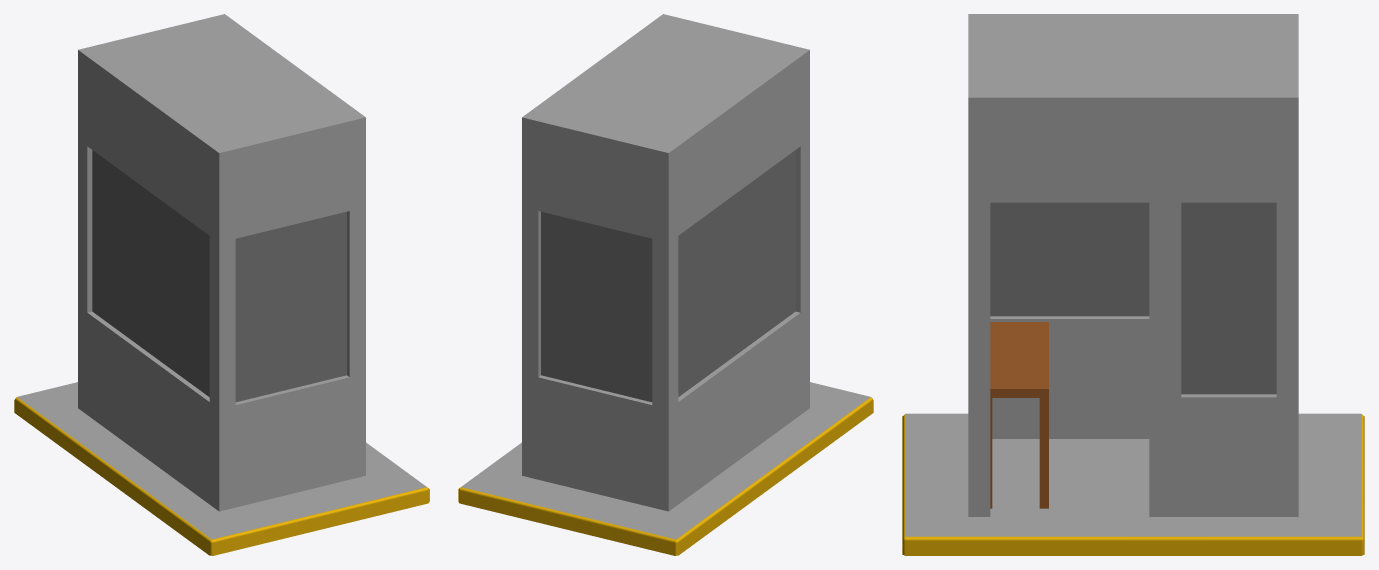
File: Caseta.fbx
The picture shows the model from 3 angles, left to right: view 1: azimuth 30°, elevation 25°; view 2: azimuth 150°, elevation 25°; view 3: azimuth 270°, elevation 25°; orthographic projection. The views are drawn at different scales.
Parts seen in each view (by area): view 1: Caseta, Ventanas, Cimiento; view 2: Caseta, Ventanas, Cimiento; view 3: Caseta, Cimiento, Ventanas, Mesita.
Boxes of the visible parts, x1,y1,x2,y2 form: Caseta: (78, 14, 365, 511); Ventanas: (92, 150, 346, 402); Cimiento: (14, 382, 429, 555); Caseta: (522, 14, 809, 511); Ventanas: (541, 150, 795, 402); Cimiento: (458, 382, 873, 555); Caseta: (968, 14, 1298, 516); Cimiento: (902, 413, 1364, 555); Ventanas: (990, 202, 1276, 394); Mesita: (990, 322, 1048, 508).
Size of the model in its own units: 2.25 by 3.5 by 3.65.
